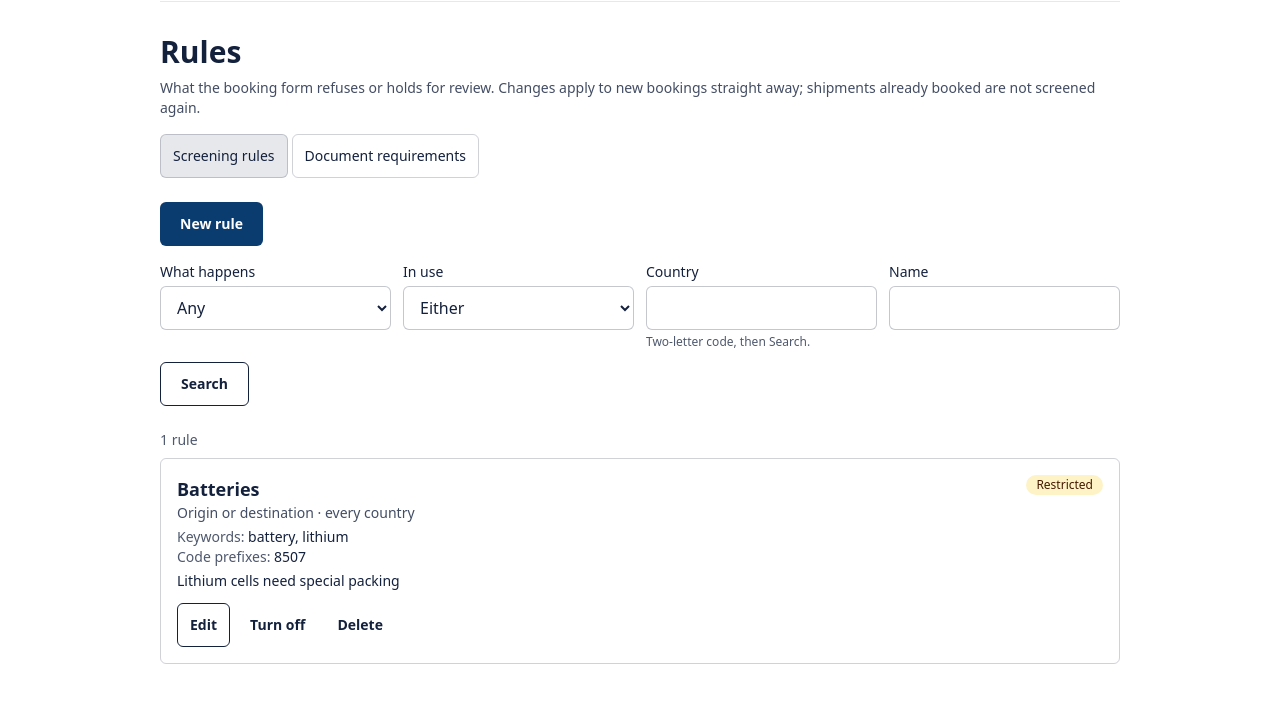
it: screening rules screen › turns a rule off and on without deleting it
The width and height of the screenshot is (1280, 720).
(page scrolled)
Click the button named "Turn off Batteries" at (278, 625), box [238,603,317,647]
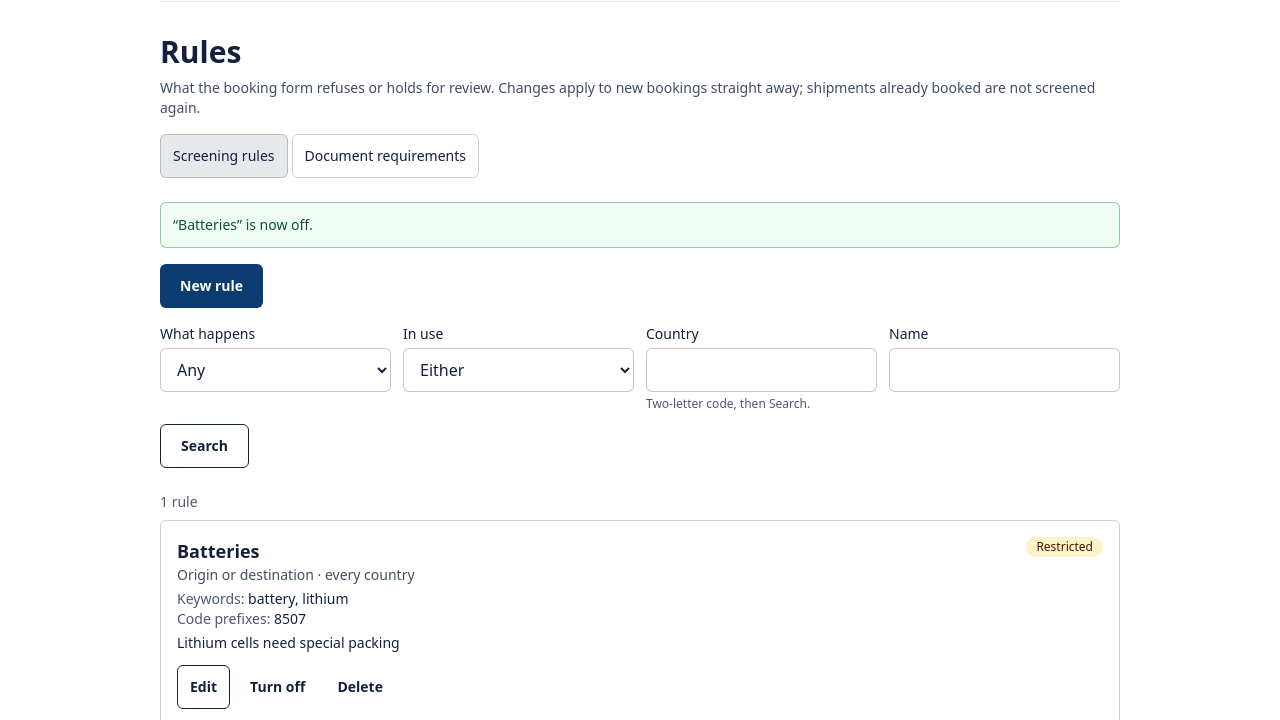
Check: the text "“Batteries” is now off." is shown, box [160,202,1120,248]
